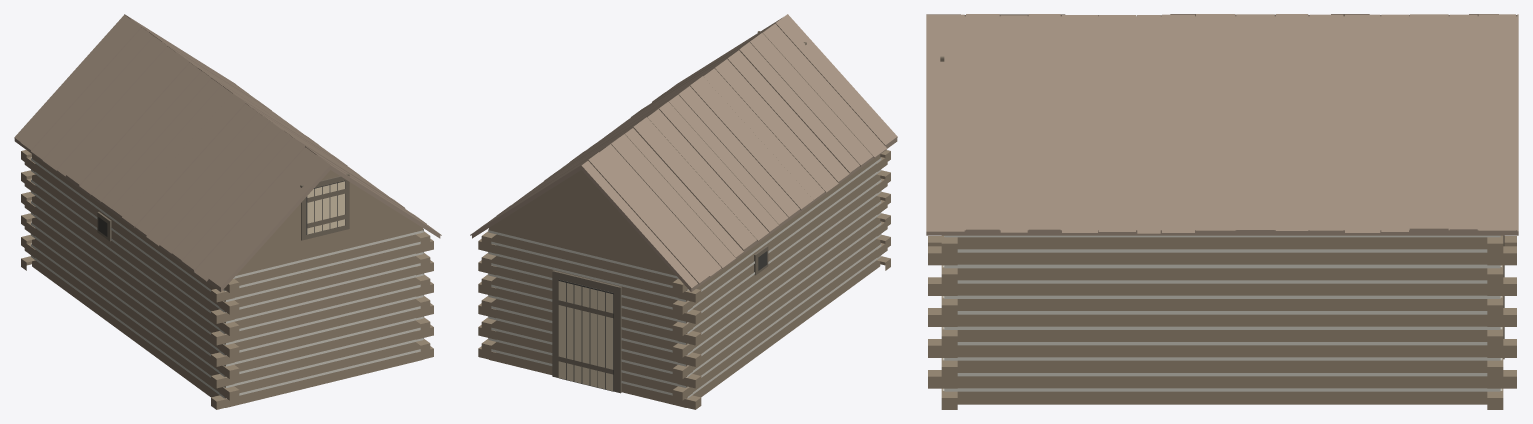
File: recon_1835_blk_washington_franklin_a1_08__inferred_1835.glb
3 views of the same model, side by side, from view 1: azimuth 30°, elevation 25°; view 2: azimuth 150°, elevation 25°; view 3: azimuth 270°, elevation 25° (orthographic). The views are drawn at different scales.
Visible parts, largest first — view 1: recon_1835_blk_washington_franklin_a1_08__inferred_1835; view 2: recon_1835_blk_washington_franklin_a1_08__inferred_1835; view 3: recon_1835_blk_washington_franklin_a1_08__inferred_1835.
Part boxes in pixels (bbox=[...]): recon_1835_blk_washington_franklin_a1_08__inferred_1835: bbox=[14, 14, 441, 409]; recon_1835_blk_washington_franklin_a1_08__inferred_1835: bbox=[470, 14, 897, 409]; recon_1835_blk_washington_franklin_a1_08__inferred_1835: bbox=[926, 14, 1518, 409].
Bounding box in the file's own units: 5.46 × 5.22 × 8.72.
